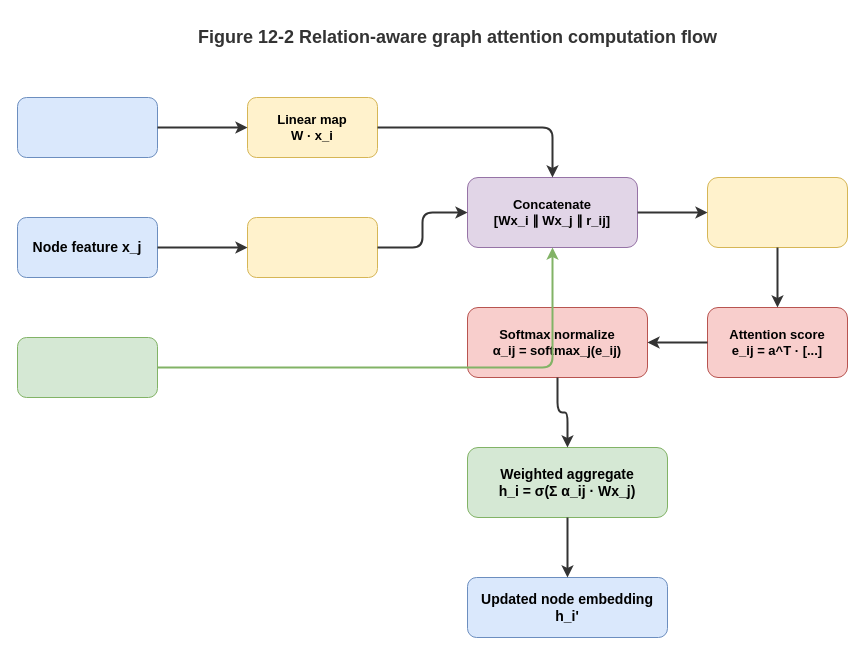
Some shapes in this 865 by 655 pixel diagram are drawn without their labels. Here are the shapes that lost their labels. From the top down, the centre of each, then its label:
At point 87,127: "Node feature x_i".
At point 777,212: "LeakyReLU activation".
At point 312,247: "Linear map W · x_j".
At point 87,367: "Edge feature r_ij".
